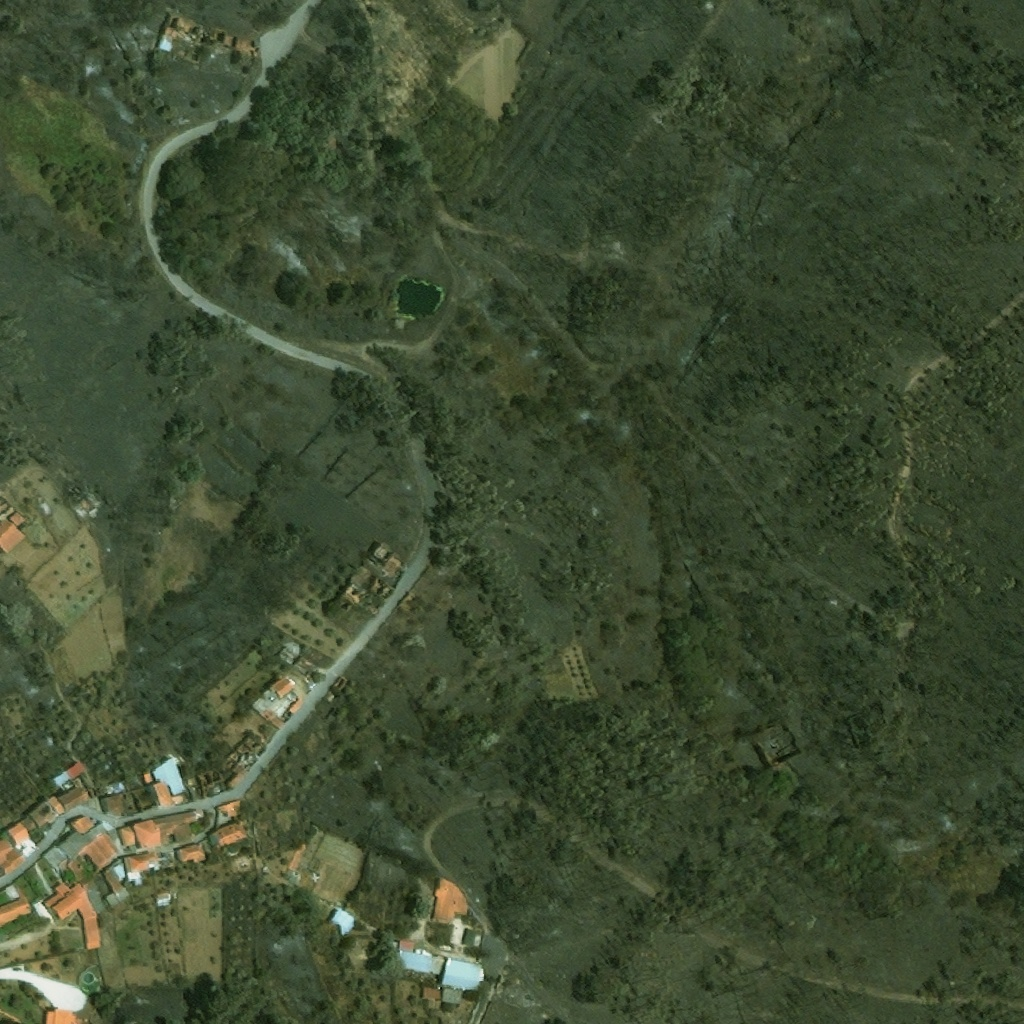0 no-damage: (394, 940, 485, 1005), (41, 813, 120, 874), (42, 881, 100, 951), (119, 809, 198, 850), (431, 876, 469, 926), (152, 755, 191, 800), (122, 851, 170, 886), (101, 857, 130, 910), (270, 673, 306, 715), (0, 510, 24, 555), (0, 835, 25, 878), (211, 819, 247, 848), (29, 801, 61, 833), (325, 906, 356, 939), (0, 895, 32, 926), (51, 761, 84, 790), (58, 783, 89, 813), (4, 821, 31, 849), (175, 843, 206, 866), (19, 813, 42, 839), (42, 1009, 80, 1023), (46, 795, 68, 818), (215, 799, 242, 813), (461, 927, 477, 949), (154, 895, 172, 905)
2 major-damage: (96, 790, 135, 816), (110, 780, 126, 792)
3 destroyed: (162, 10, 257, 54), (201, 733, 262, 789), (131, 771, 184, 813), (334, 565, 380, 613), (371, 541, 412, 580), (516, 40, 551, 75), (783, 752, 815, 782), (278, 643, 305, 667), (156, 33, 175, 53), (188, 782, 205, 802)
4 un-classified: (0, 498, 10, 518)
